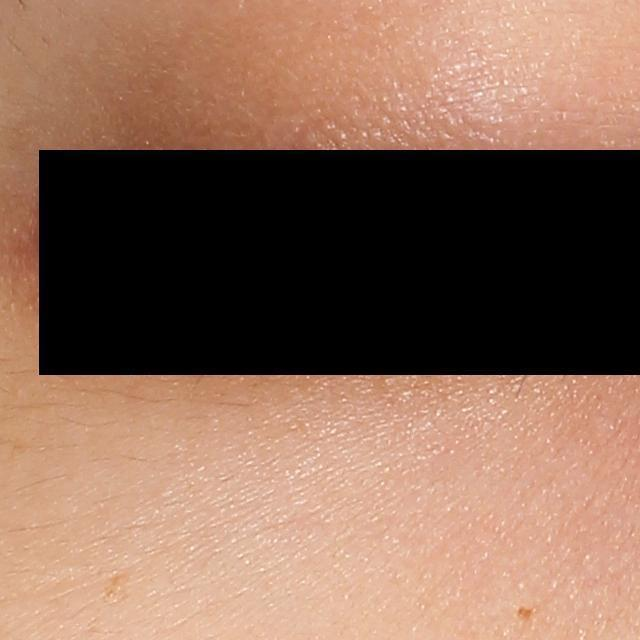melasma: (94, 570, 133, 606)
nevus: (515, 601, 532, 624)
